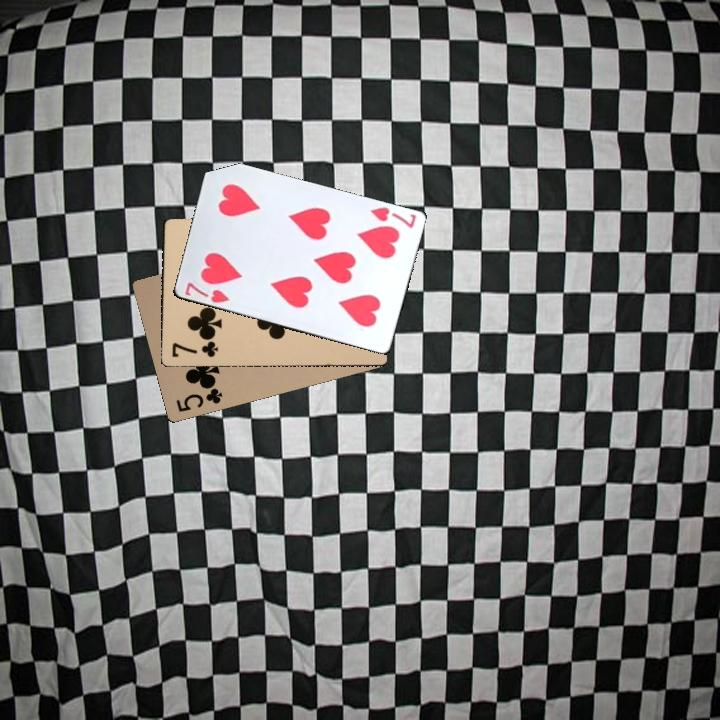5c: (172, 381, 225, 415)
7c: (168, 337, 221, 360)
7h: (366, 203, 418, 231), (181, 278, 232, 306)
